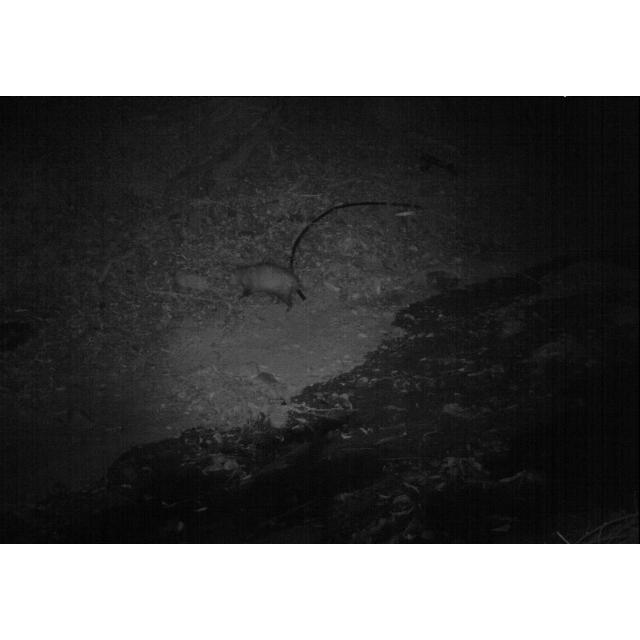animals: (227, 262, 309, 316)
